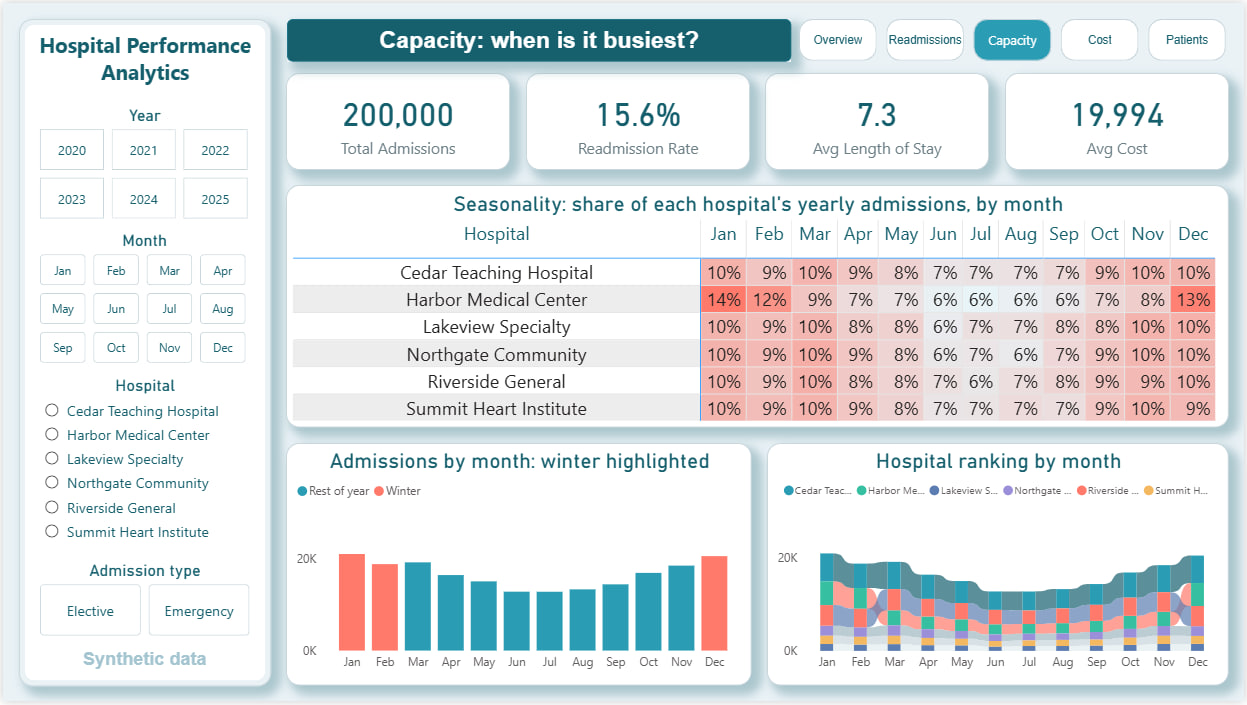

The page's visual inventory and layout, read from the dashboard file:
{"tool":"powerbi","page":{"name":"Capacity","canvas":[1280,720],"ordinal":2},"visuals":[{"type":"shape","box":[16,16,260,688],"z":0},{"type":"textbox","box":[16,24,260,80],"z":1000},{"type":"listSlicer","title":"Hospital","fields":{"Values":["dim_hospital.hospital_name"]},"box":[35.9,383.3,220.8,231.6],"z":2000},{"type":"advancedSlicerVisual","fields":{"Values":["Date Table.Year"]},"box":[35.9,104.1,220,120.3],"z":3000},{"type":"advancedSlicerVisual","fields":{"Values":["Date Table.Month"]},"box":[35.9,232.5,220,140],"z":4000},{"type":"advancedSlicerVisual","title":"Admission type","fields":{"Values":["fact_admissions.admission_type"]},"box":[35.9,573.7,220.8,81.7],"z":5000},{"type":"card","fields":{"Values":["fact_admissions.Avg Length of Stay"]},"box":[786,72,231,100],"z":6000},{"type":"card","fields":{"Values":["fact_admissions.Total Admissions"]},"box":[292,72,231,100],"z":7000},{"type":"card","fields":{"Values":["fact_admissions.Avg Cost"]},"box":[1033,72,231,100],"z":8000},{"type":"card","fields":{"Values":["fact_admissions.Readmission Rate"]},"box":[539,72,231,100],"z":9000},{"type":"shape","box":[292.7,16.2,520,44],"z":10000},{"type":"pivotTable","title":"Seasonality: share of each hospital''s yearly admissions, by month","fields":{"Rows":["dim_hospital.hospital_name"],"Columns":["Date Table.Month"],"Values":["fact_admissions.Share of Annual Admissions"]},"box":[292,188,972,250],"z":11000},{"type":"columnChart","title":"Admissions by month: winter highlighted","fields":{"Category":["Date Table.Month"],"Y":["fact_admissions.Total Admissions"],"Series":["Date Table.Season"]},"box":[292,454,480,250],"z":12000},{"type":"ribbonChart","title":"Hospital ranking by month","fields":{"Category":["Date Table.Month"],"Y":["fact_admissions.Total Admissions"],"Series":["dim_hospital.hospital_name"]},"box":[788,454,476,250],"z":13000},{"type":"shape","box":[36.8,661.6,218.2,30.5],"z":14000},{"type":"pageNavigator","box":[820.5,16.2,443.5,44],"z":15000}]}

Visuals, with their boxes in screenshot pixels (x1, y1, x2, y2), scaled from the page's 1280x720 canvas onto the 1247x705 screenshot:
shape: pyautogui.locateOnScreen(16, 16, 269, 689)
textbox: pyautogui.locateOnScreen(16, 24, 269, 102)
"Hospital" listSlicer: pyautogui.locateOnScreen(35, 375, 250, 602)
advancedSlicerVisual - Date Table.Year: pyautogui.locateOnScreen(35, 102, 249, 220)
advancedSlicerVisual - Date Table.Month: pyautogui.locateOnScreen(35, 228, 249, 365)
"Admission type" advancedSlicerVisual: pyautogui.locateOnScreen(35, 562, 250, 642)
card - fact_admissions.Avg Length of Stay: pyautogui.locateOnScreen(766, 70, 991, 168)
card - fact_admissions.Total Admissions: pyautogui.locateOnScreen(284, 70, 510, 168)
card - fact_admissions.Avg Cost: pyautogui.locateOnScreen(1006, 70, 1231, 168)
card - fact_admissions.Readmission Rate: pyautogui.locateOnScreen(525, 70, 750, 168)
shape: pyautogui.locateOnScreen(285, 16, 792, 59)
"Seasonality: share of each hospital''s yearly admissions, by month" pivotTable: pyautogui.locateOnScreen(284, 184, 1231, 429)
"Admissions by month: winter highlighted" columnChart: pyautogui.locateOnScreen(284, 445, 752, 689)
"Hospital ranking by month" ribbonChart: pyautogui.locateOnScreen(768, 445, 1231, 689)
shape: pyautogui.locateOnScreen(36, 648, 248, 678)
pageNavigator: pyautogui.locateOnScreen(799, 16, 1231, 59)
